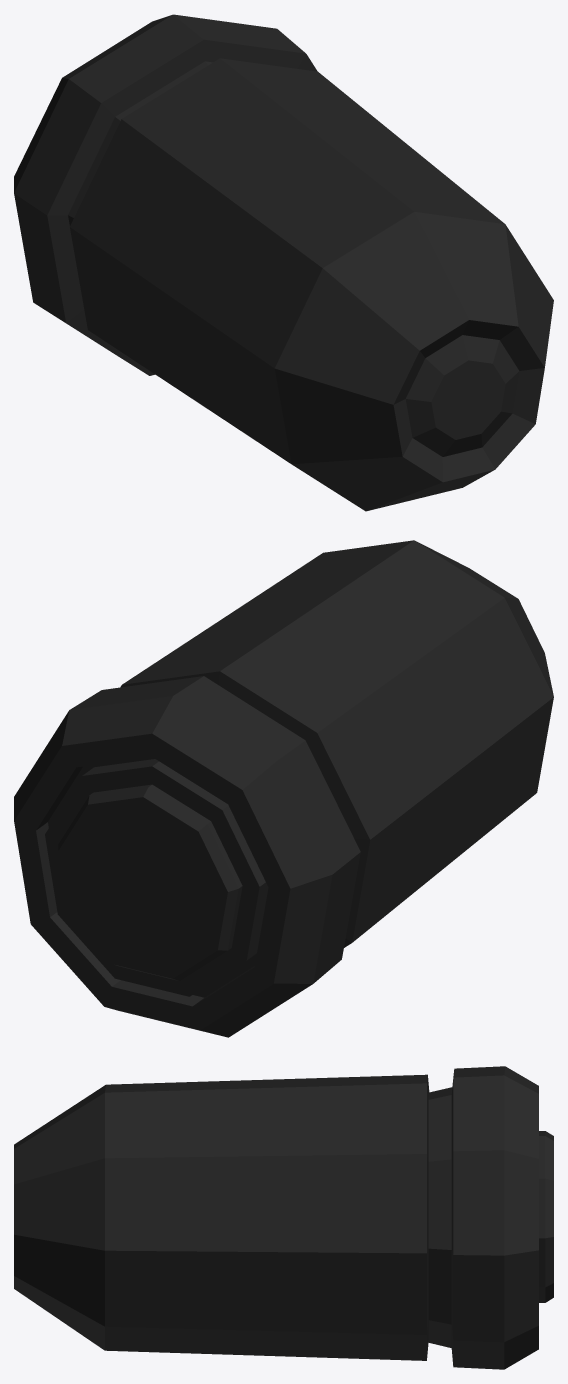
The model's file is Bullet.fbx.
3 views of the same model, one above another, from view 1: azimuth 30°, elevation 25°; view 2: azimuth 150°, elevation 25°; view 3: azimuth 270°, elevation 25° (orthographic). The views are drawn at different scales.
Parts seen in each view (by area): view 1: Bullet; view 2: Bullet; view 3: Bullet.
Boxes of the visible parts, left/top/right/bottom form: Bullet: left=14, top=14, right=553, bottom=511; Bullet: left=14, top=540, right=553, bottom=1037; Bullet: left=14, top=1066, right=553, bottom=1369.
Size of the model in its own units: 195 by 192 by 345.
